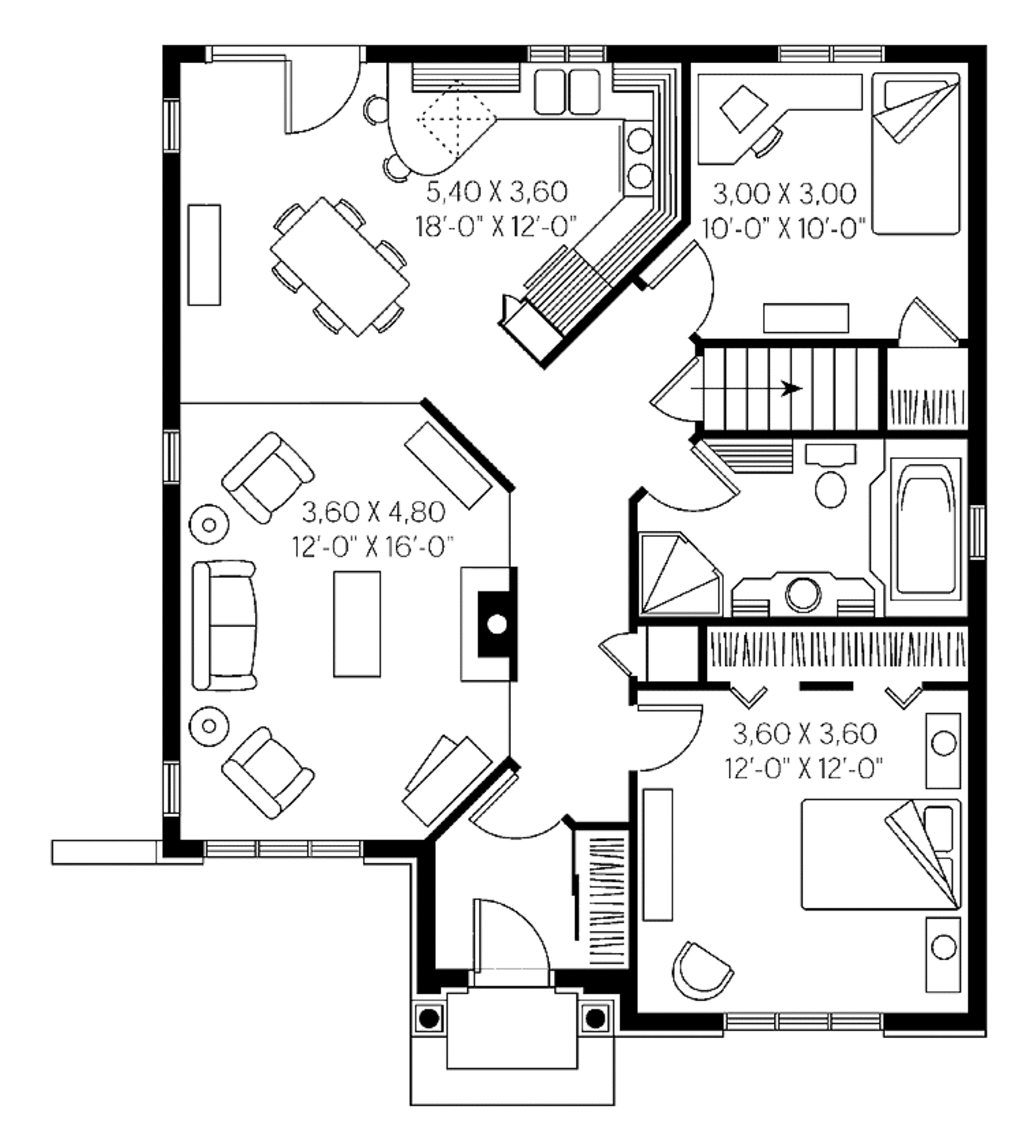bed: (801, 773, 965, 937), (848, 78, 1001, 231)
dining_table: (260, 190, 420, 350)
door: (464, 899, 570, 1005), (471, 764, 576, 869), (653, 237, 741, 325), (276, 47, 362, 133), (650, 438, 736, 524), (630, 705, 710, 785), (645, 358, 713, 426), (895, 290, 960, 355), (599, 629, 651, 681)
kitchen_bar: (371, 61, 513, 203)
large_sink: (805, 443, 881, 519)
large_sofa: (159, 559, 290, 690)
small_sofa: (214, 424, 312, 522), (220, 722, 317, 819)
twin_sink: (527, 58, 610, 141)
window: (150, 762, 222, 834), (150, 98, 207, 155), (153, 427, 206, 480)
